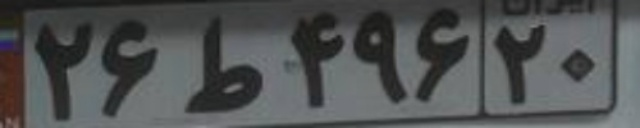0: (556, 47, 597, 83)
2: (34, 19, 87, 121), (491, 22, 551, 105)
4: (289, 12, 344, 108)
6: (100, 19, 157, 118), (415, 7, 470, 102)
9: (351, 9, 407, 105)
taa: (186, 15, 265, 113)
